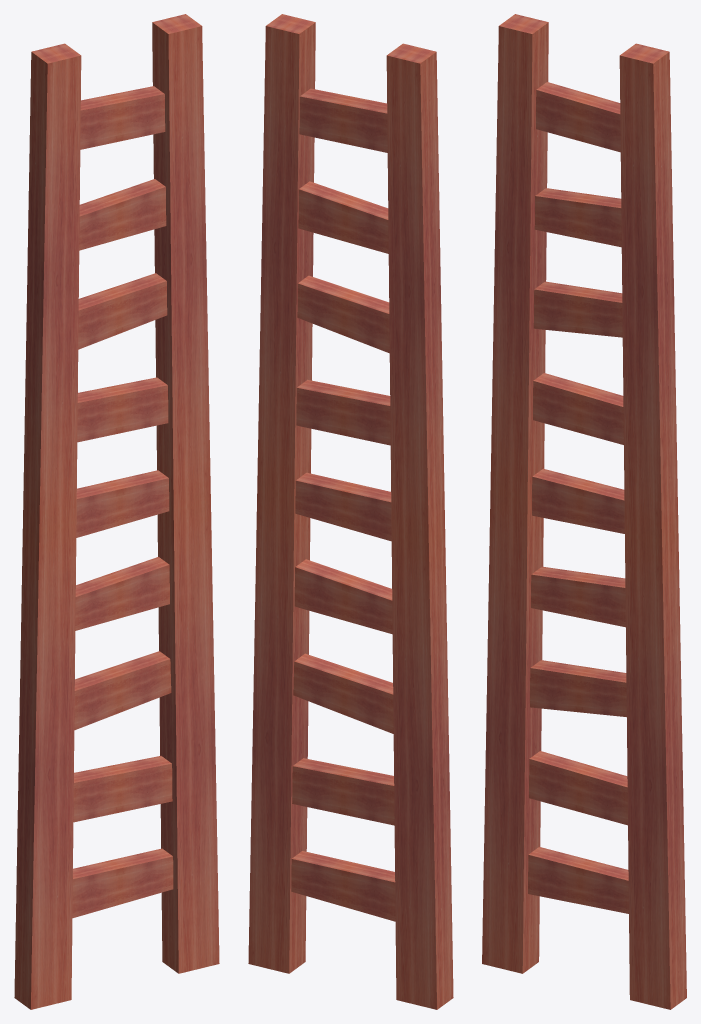
The model's file is STB0110004.FBX.
3 views of the same model, side by side, from view 1: azimuth 30°, elevation 25°; view 2: azimuth 150°, elevation 25°; view 3: azimuth 330°, elevation 25° (orthographic).
Visible parts, largest first — view 1: smSTB0110004; view 2: smSTB0110004; view 3: smSTB0110004.
Part boxes in pixels (x1,y1,x2,y2): smSTB0110004: (14, 14, 219, 1009); smSTB0110004: (248, 14, 453, 1009); smSTB0110004: (482, 14, 686, 1009).
Size of the model in its own units: 0.8969 by 4.28 by 0.1348.
Materials: 1 (1 with a texture image).
